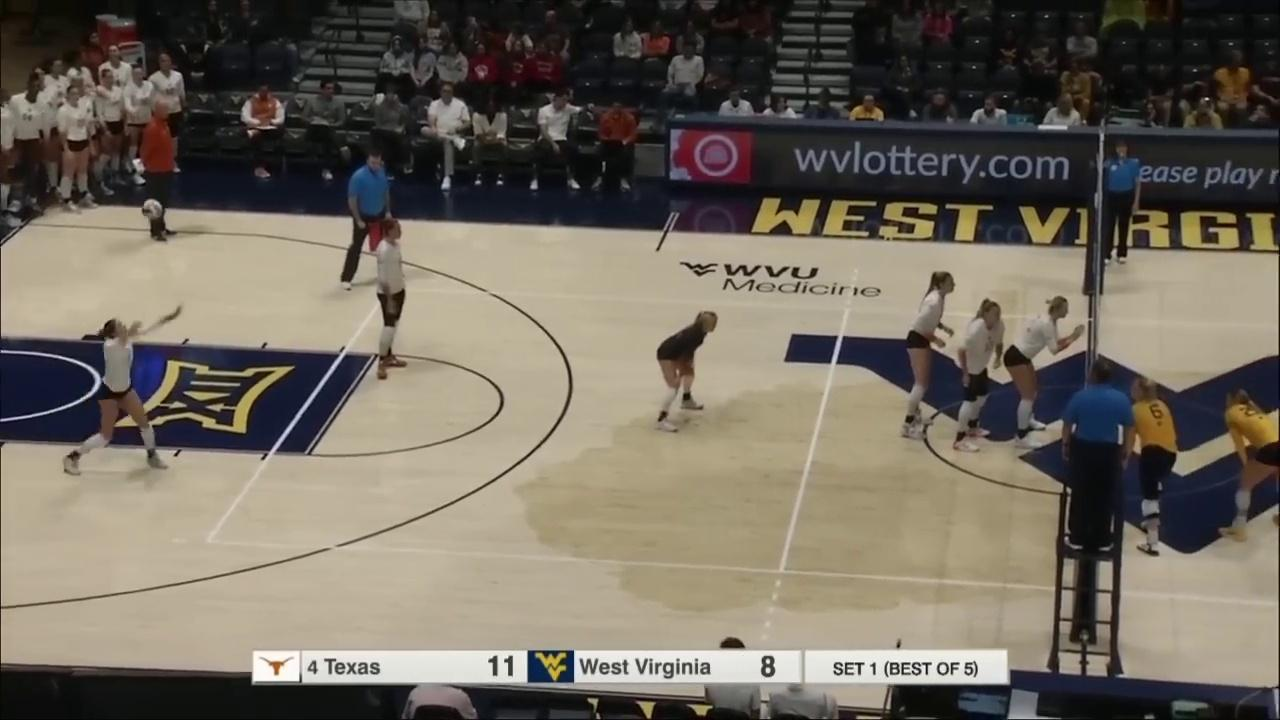player: (61, 305, 185, 477), (1006, 296, 1084, 449), (1215, 389, 1279, 543), (1123, 378, 1177, 555), (901, 268, 953, 438), (656, 311, 721, 431), (955, 299, 1005, 455), (373, 218, 409, 381)
refree: (1061, 361, 1134, 550), (343, 151, 404, 289), (1101, 141, 1141, 263)
